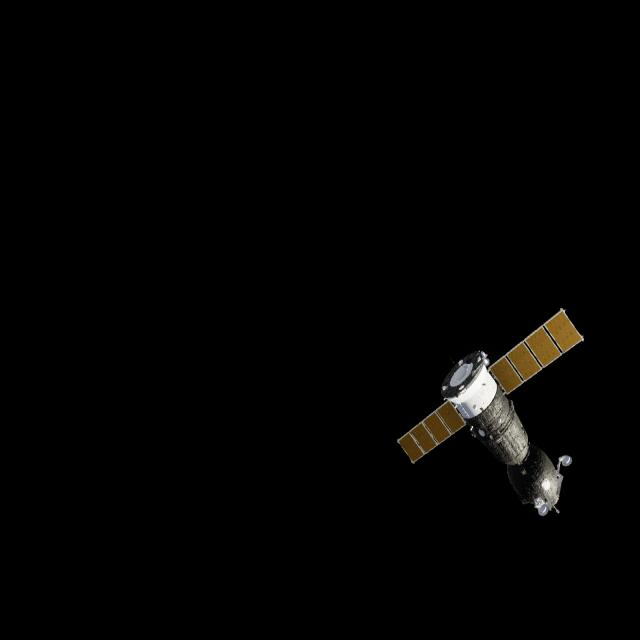Satellites revolving around earth: (395, 305, 586, 520)
